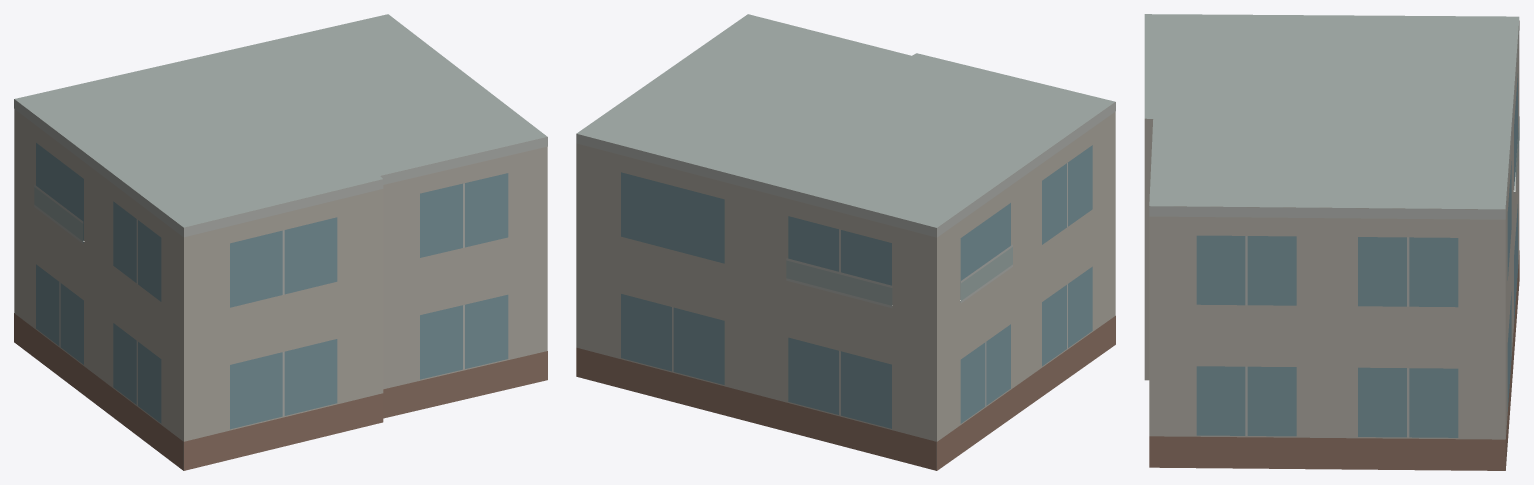
File: survey-upis-32597938.glb
The picture shows the model from 3 angles, left to right: view 1: azimuth 30°, elevation 25°; view 2: azimuth 150°, elevation 25°; view 3: azimuth 270°, elevation 25°; orthographic projection. The views are drawn at different scales.
Parts seen in each view (by area): view 1: survey-upis-32597938.tmp; view 2: survey-upis-32597938.tmp; view 3: survey-upis-32597938.tmp.
Part boxes in pixels (x1,y1,x2,y2): survey-upis-32597938.tmp: (14, 14, 547, 470); survey-upis-32597938.tmp: (576, 14, 1115, 470); survey-upis-32597938.tmp: (1144, 14, 1519, 470).
Bounding box in the file's own units: 9.78 × 6.1 × 7.94.
